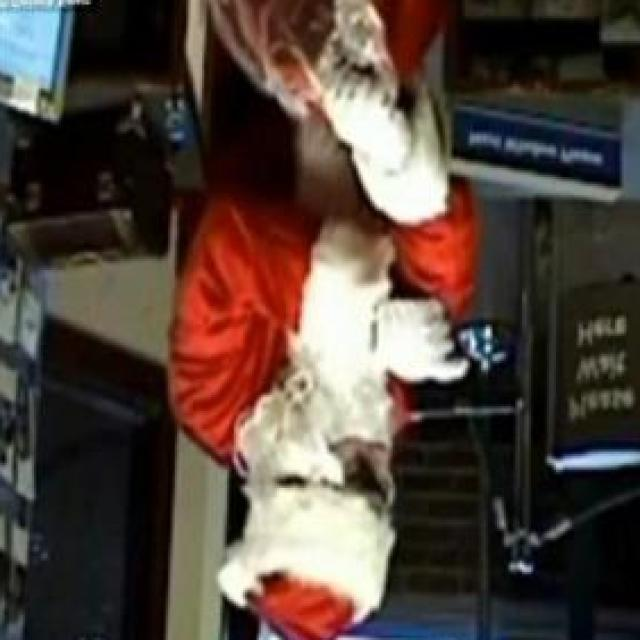pistol: (397, 304, 515, 429)
